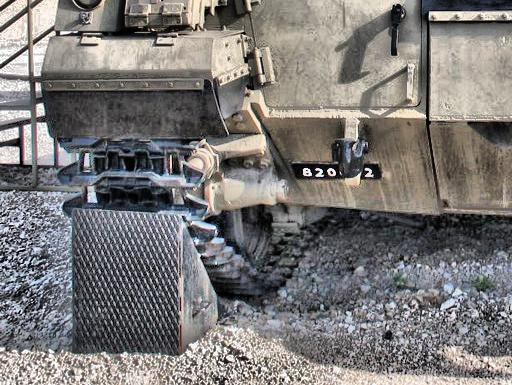tanks: (41, 1, 512, 292)
